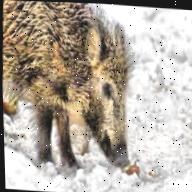boar: (0, 0, 153, 184)
